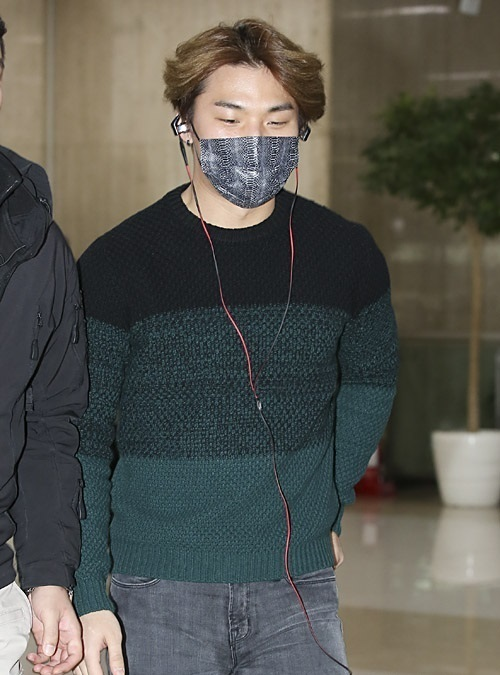face_mask: (193, 57, 296, 211)
